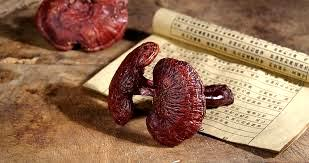Ganoderma - Fruit Body: (145, 58, 205, 146), (35, 0, 130, 52), (107, 42, 159, 128)
